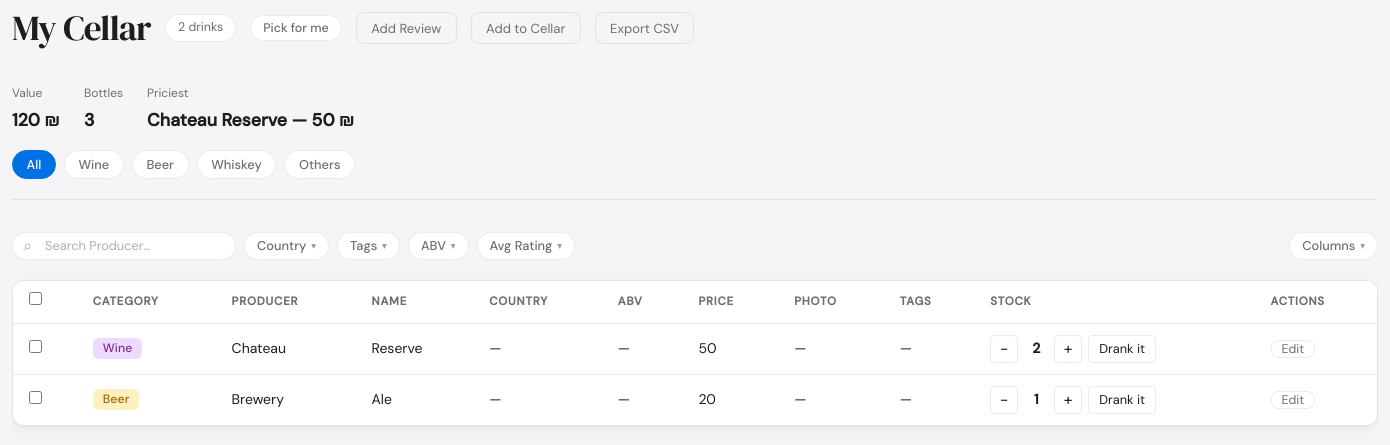
Test case: spend summary shows Value, Bottles and Priciest once stock exists, and tracks the category tab
Expected: the text "2 drinks" is shown, [165,14,236,42]
Expected: the text "Value" is shown, [12,85,42,101]
Click the button "Wine": (94, 164) [64,150,124,179]
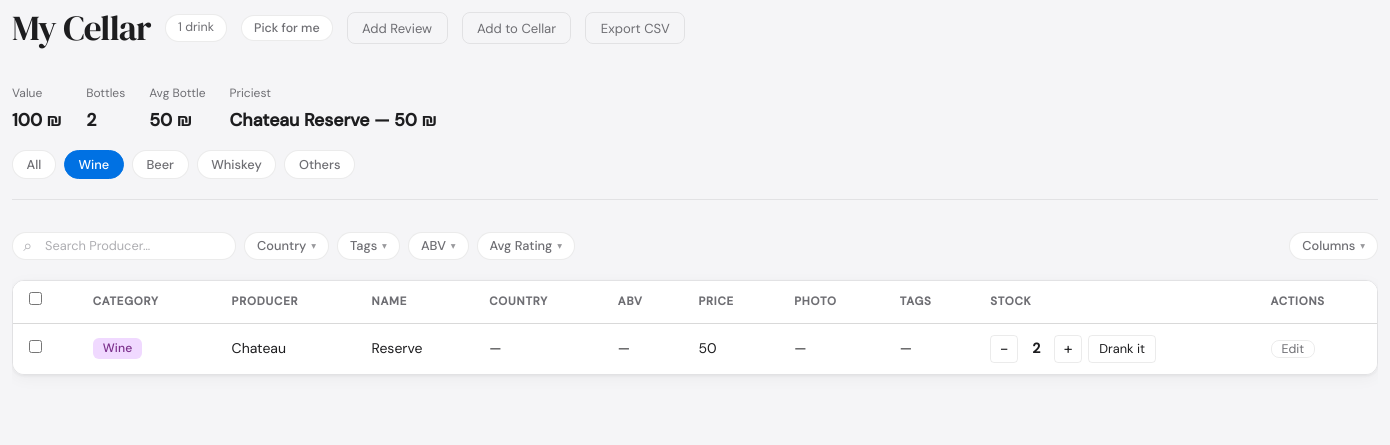
Result: the text "1 drink" is shown at [165,14,227,42]
Result: the text "100 ₪" is shown at [12,106,62,134]
